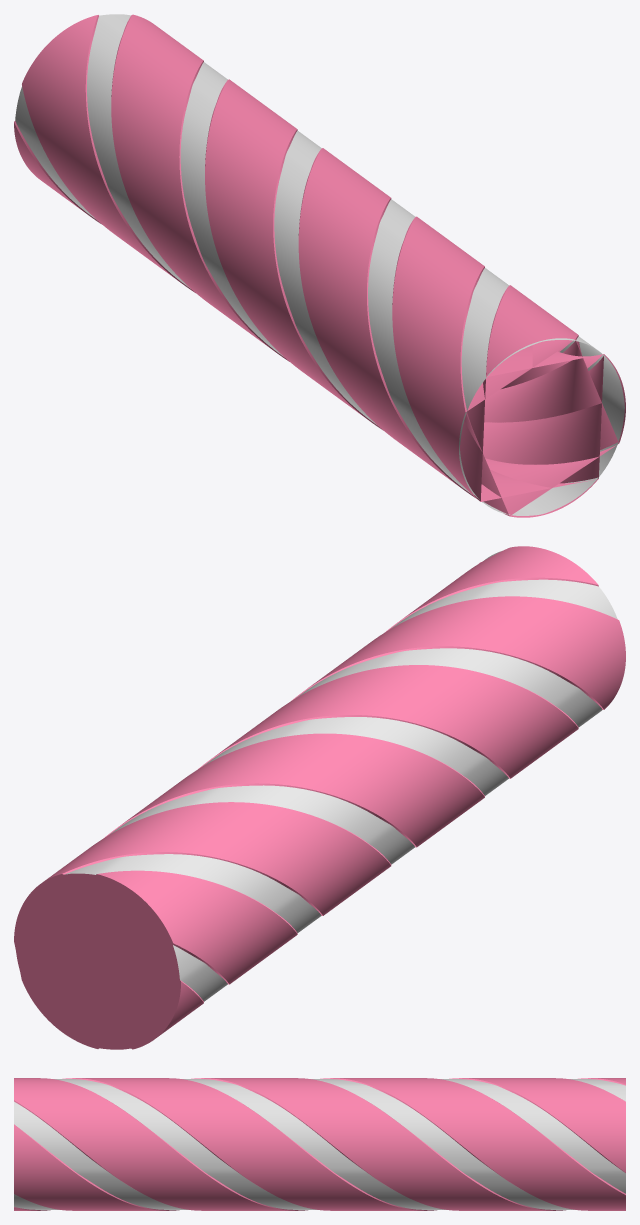
Rendered from candyColoumn.fbx.
3 views of the same model, one above another, from view 1: azimuth 30°, elevation 25°; view 2: azimuth 150°, elevation 25°; view 3: azimuth 270°, elevation 25° (orthographic). The views are drawn at different scales.
Visible parts, largest first — view 1: Куб; view 2: Куб; view 3: Куб.
Part boxes in pixels (x1=…): Куб: x1=14, y1=14, x2=625, y2=517; Куб: x1=14, y1=546, x2=625, y2=1049; Куб: x1=14, y1=1078, x2=625, y2=1210.
Bounding box in the file's own units: 202 × 202 × 933.
